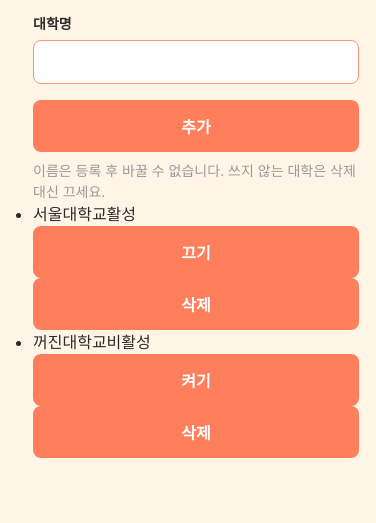
Scenario: UniversityTab › 사용 중인 대학 삭제는 안내를 띄운다
What coordinates should you click on to do the following:
click the button "삭제" below "서울대학교"
I would click on:
 (196, 304)
Its box is [33,278,359,330].
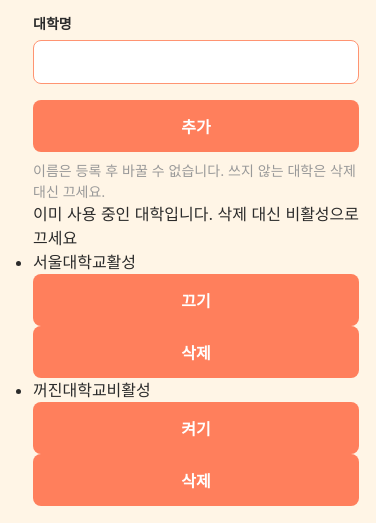
Expected: the text "이미 사용 중인 대학입니다. 삭제 대신 비활성으로 끄세요" is shown, [33,202,359,250]
